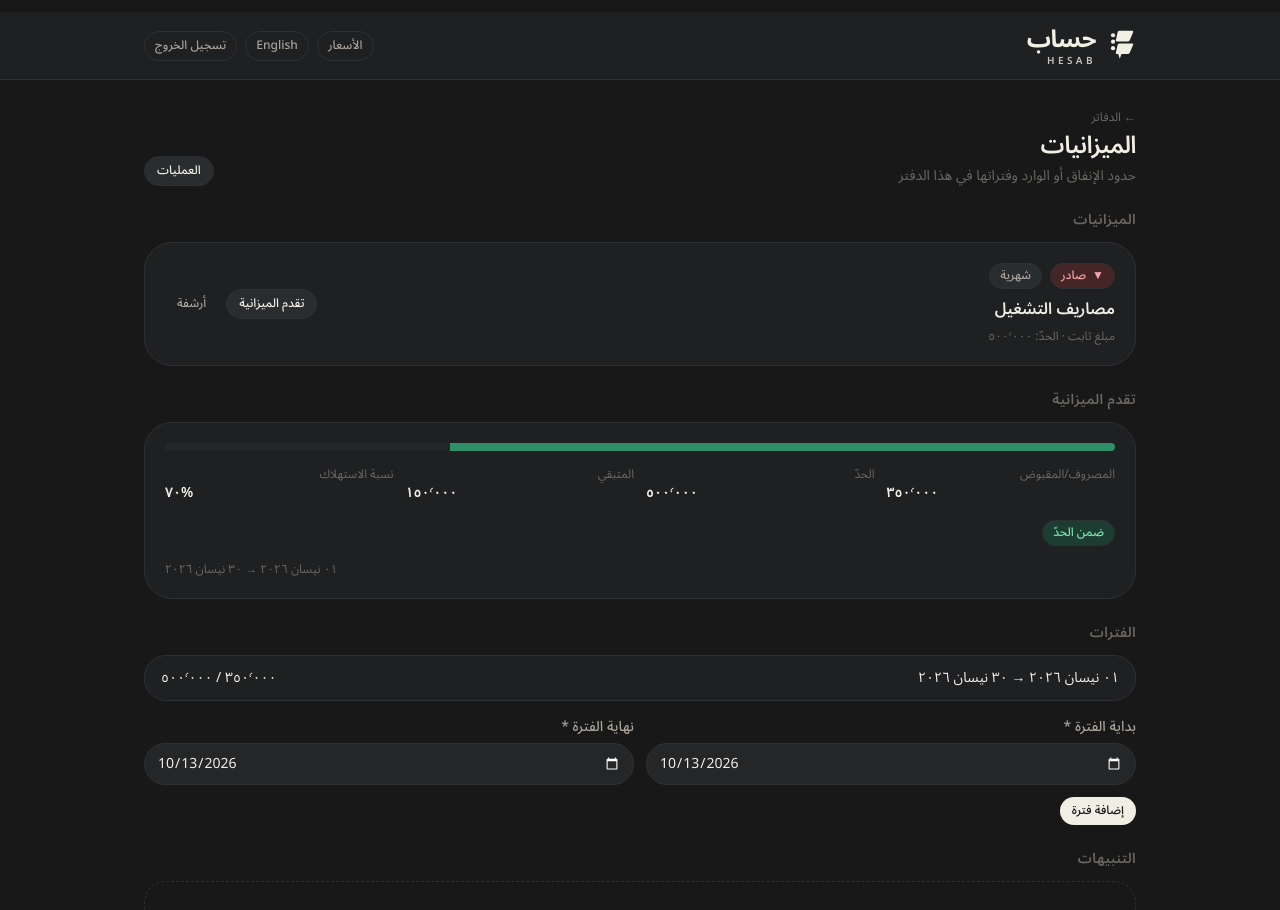
BudgetsView › reports a duplicate period from the server
This screenshot has width=1280, height=910.
Expected: the text "مصاريف التشغيل" is shown, [988, 298, 1115, 322]
Click the button "إضافة فترة".
click(1098, 812)  # box [1060, 798, 1136, 826]
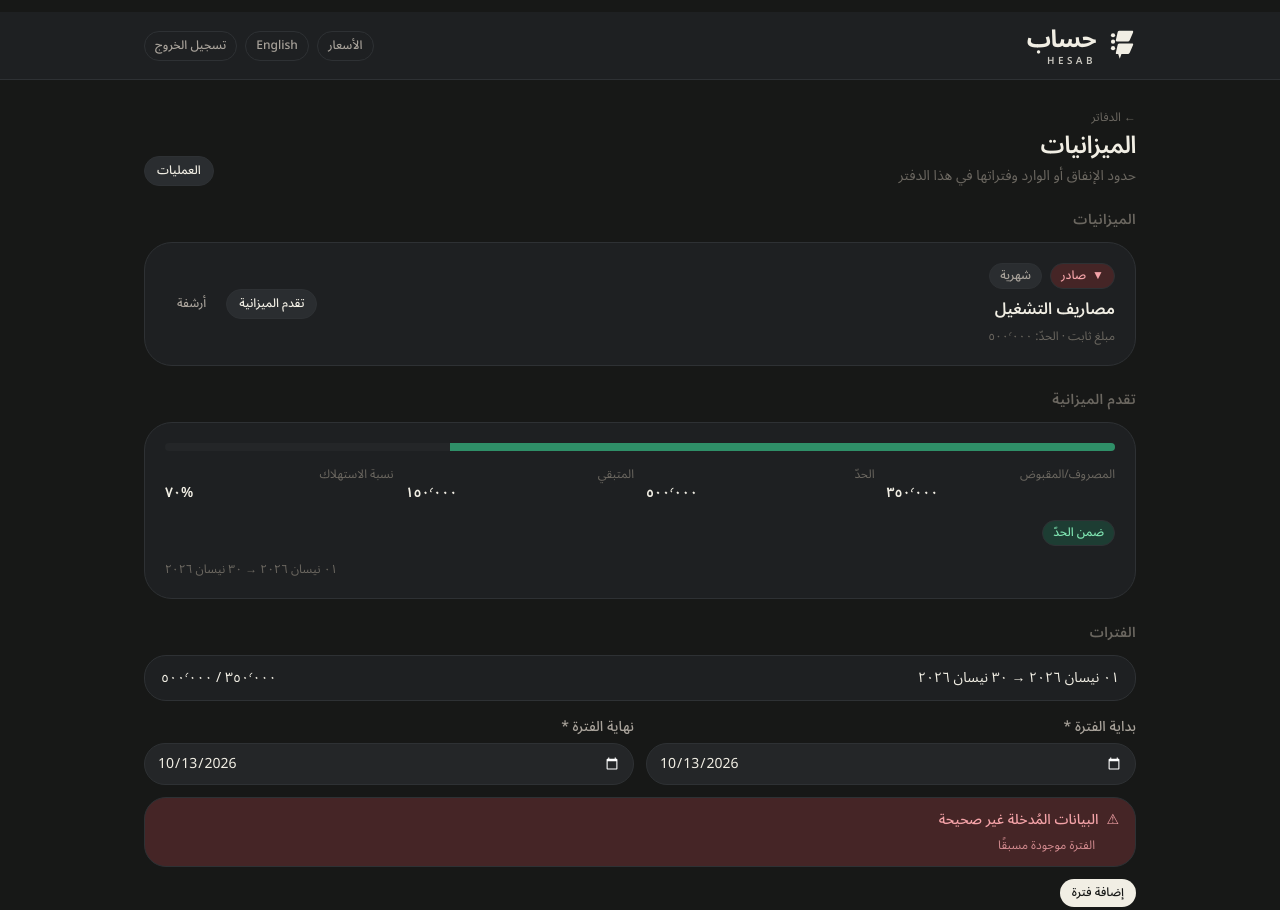
Expected: the text "الفترة موجودة مسبقًا" is shown, [998, 834, 1095, 858]
